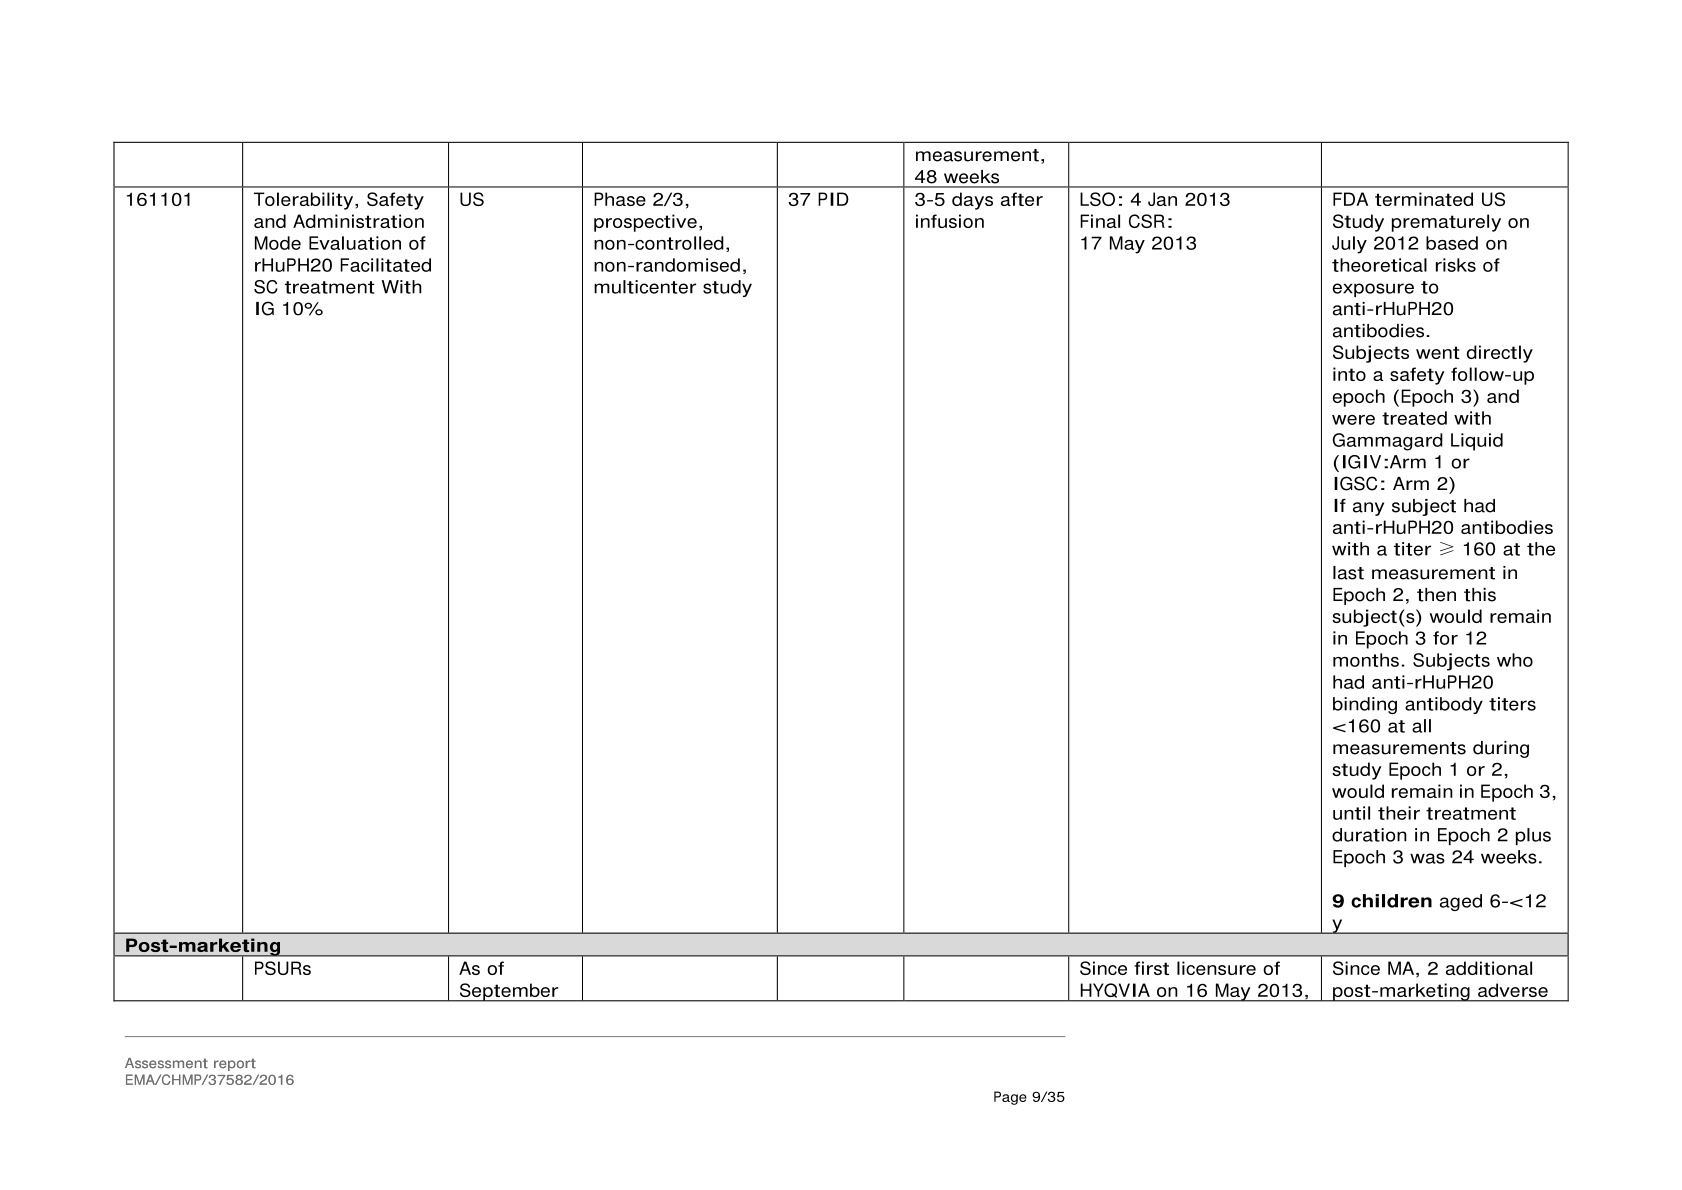merged_cells: (111, 139, 1570, 1002)
